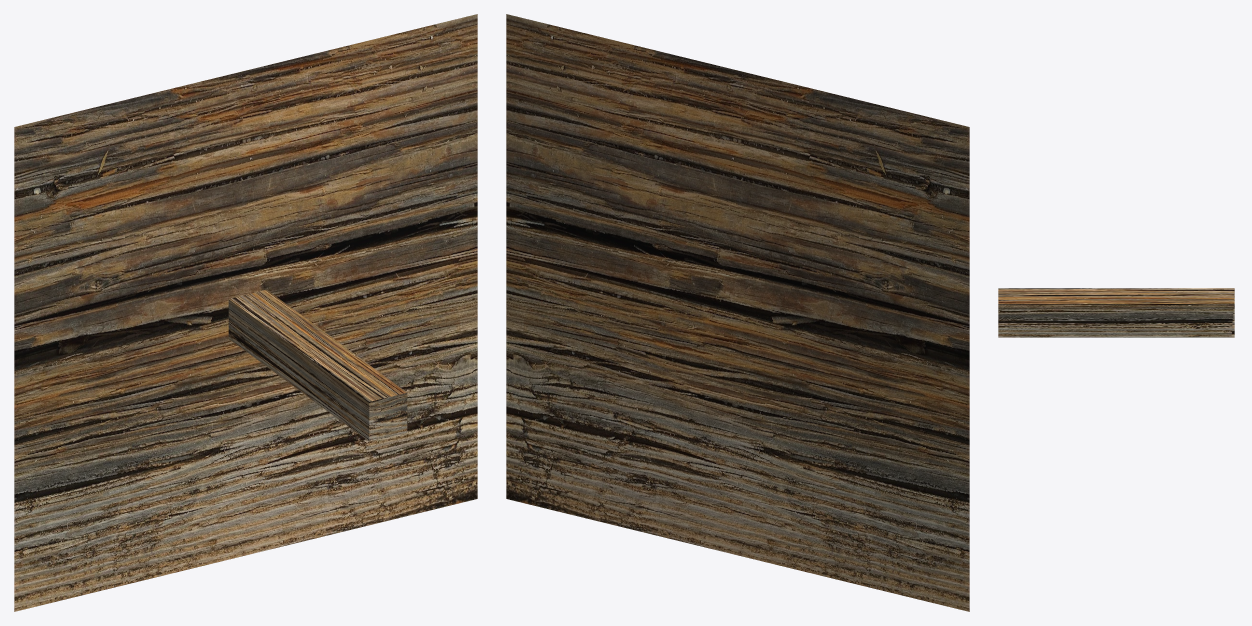
The model's file is table.fbx.
3 renders of one model, left to right at view 1: azimuth 30°, elevation 25°; view 2: azimuth 150°, elevation 25°; view 3: azimuth 270°, elevation 25°, orthographic. The views are drawn at different scales.
Visible parts, largest first — view 1: Plane, Cube; view 2: Plane; view 3: Cube.
Part boxes in pixels (x1,y1,x2,y2): Plane: (14, 14, 477, 611); Cube: (228, 290, 407, 441); Plane: (506, 14, 969, 611); Cube: (998, 288, 1234, 337).
Bounding box in the file's own units: 242 × 242 × 129.
Materials: 1 (1 with a texture image).
